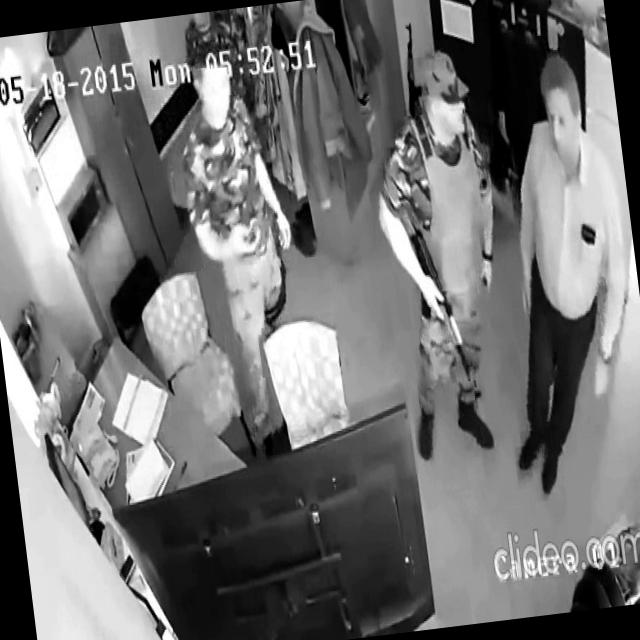gun: (406, 218, 481, 408), (397, 17, 431, 118)
person: (468, 45, 640, 498), (166, 32, 318, 456)
person with a gun: (360, 42, 528, 468)
